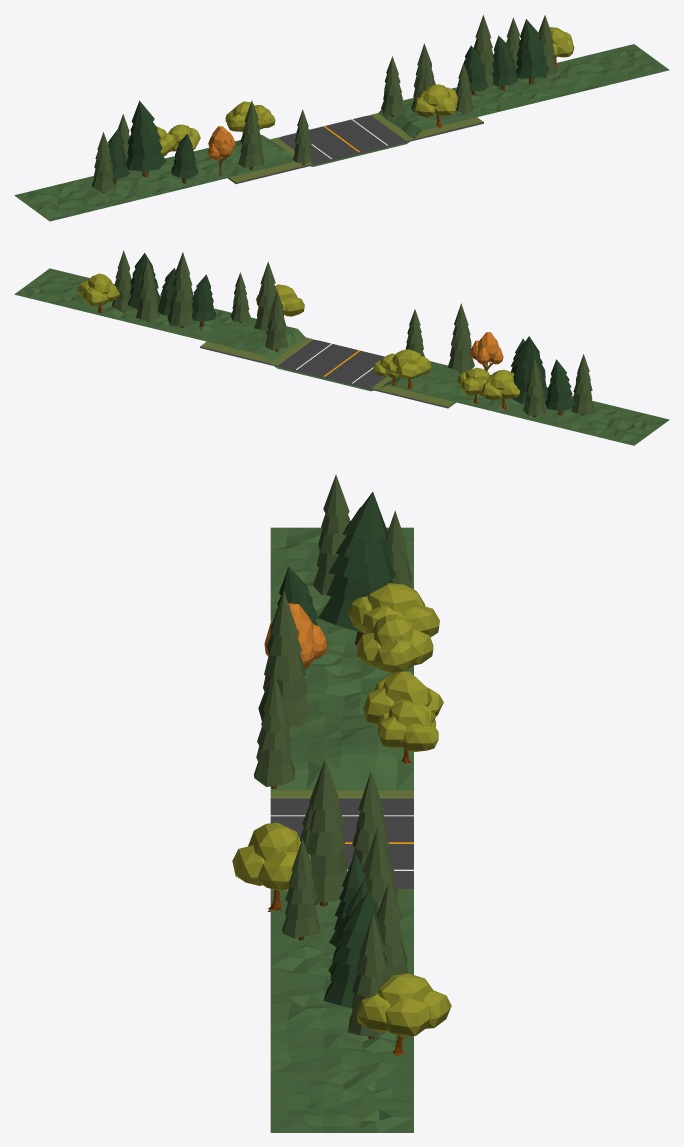
The model's file is ForestRoadStraight.fbx.
The picture shows the model from 3 angles, top to bottom: view 1: azimuth 30°, elevation 25°; view 2: azimuth 150°, elevation 25°; view 3: azimuth 270°, elevation 25°; orthographic projection. The views are drawn at different scales.
Visible parts, largest first — view 1: FRSPlane, FRSRoad, FRSPlane|pineTree04|Dupli|11, FRSPlane|pineTree04|Dupli|15, FRSPlane|oakTree|Dupli|2, FRSPlane|pineTree05|Dupli|3, FRSPlane|pineTree04|Dupli|14, FRSPlane|pineTree05|Dupli|5, FRSPlane|pineTree05|Dupli|20, FRSPlane|pineTree05|Dupli|21, FRSPlane|pineTree04|Dupli|10, FRSPlane|birchTree|Dupli|9 (+11 smaller); view 2: FRSPlane, FRSRoad, FRSPlane|pineTree05|Dupli|21, FRSPlane|pineTree04|Dupli|11, FRSPlane|pineTree05|Dupli|3, FRSPlane|pineTree04|Dupli|12, FRSPlane|oakTree|Dupli|1, FRSPlane|oakTree|Dupli|16, FRSPlane|pineTree05|Dupli|22, FRSPlane|oakTree|Dupli|18, FRSPlane|pineTree05|Dupli|7, FRSPlane|pineTree05|Dupli|20 (+12 smaller); view 3: FRSPlane, FRSPlane|pineTree04|Dupli|11, FRSRoad, FRSPlane|oakTree|Dupli|16, FRSPlane|pineTree05|Dupli|7, FRSPlane|pineTree05|Dupli|3, FRSPlane|oakTree|Dupli|2, FRSPlane|oakTree|Dupli|17, FRSPlane|pineTree05|Dupli|8, FRSPlane|oakTree|Dupli|18, FRSPlane|pineTree04|Dupli|15, FRSPlane|oakTree|Dupli| (+11 smaller).
Part boxes in pixels (x1,y1,x2,y2): FRSPlane: [14, 44, 669, 221]; FRSRoad: [228, 113, 483, 183]; FRSPlane|pineTree04|Dupli|11: [126, 100, 166, 177]; FRSPlane|pineTree04|Dupli|15: [515, 19, 549, 83]; FRSPlane|oakTree|Dupli|2: [414, 84, 458, 127]; FRSPlane|pineTree05|Dupli|3: [238, 100, 264, 169]; FRSPlane|pineTree04|Dupli|14: [492, 35, 517, 90]; FRSPlane|pineTree05|Dupli|5: [381, 56, 404, 117]; FRSPlane|pineTree05|Dupli|20: [91, 132, 115, 192]; FRSPlane|pineTree05|Dupli|21: [473, 15, 495, 90]; FRSPlane|pineTree04|Dupli|10: [171, 134, 197, 183]; FRSPlane|birchTree|Dupli|9: [208, 126, 235, 174]; FRSPlane: [14, 268, 669, 445]; FRSRoad: [200, 337, 455, 408]; FRSPlane|pineTree05|Dupli|21: [167, 252, 194, 327]; FRSPlane|pineTree04|Dupli|11: [512, 336, 548, 403]; FRSPlane|pineTree05|Dupli|3: [448, 303, 474, 373]; FRSPlane|pineTree04|Dupli|12: [545, 359, 575, 415]; FRSPlane|oakTree|Dupli|1: [386, 349, 431, 389]; FRSPlane|oakTree|Dupli|16: [78, 273, 119, 313]; FRSPlane|pineTree05|Dupli|22: [136, 258, 160, 322]; FRSPlane|oakTree|Dupli|18: [482, 369, 519, 410]; FRSPlane|pineTree05|Dupli|7: [254, 261, 276, 333]; FRSPlane|pineTree05|Dupli|20: [571, 354, 594, 415]; FRSPlane: [270, 527, 413, 1132]; FRSPlane|pineTree04|Dupli|11: [318, 492, 395, 644]; FRSRoad: [270, 790, 413, 891]; FRSPlane|oakTree|Dupli|16: [356, 973, 451, 1055]; FRSPlane|pineTree05|Dupli|7: [305, 759, 347, 906]; FRSPlane|pineTree05|Dupli|3: [258, 591, 311, 728]; FRSPlane|oakTree|Dupli|2: [232, 822, 310, 911]; FRSPlane|oakTree|Dupli|17: [357, 614, 433, 673]; FRSPlane|pineTree05|Dupli|8: [254, 676, 294, 788]; FRSPlane|oakTree|Dupli|18: [348, 583, 439, 637]; FRSPlane|pineTree04|Dupli|15: [323, 891, 387, 1008]; FRSPlane|oakTree|Dupli|: [377, 700, 438, 763].
Size of what is drawn, in the model's own units: 20002 by 2618 by 3064.
